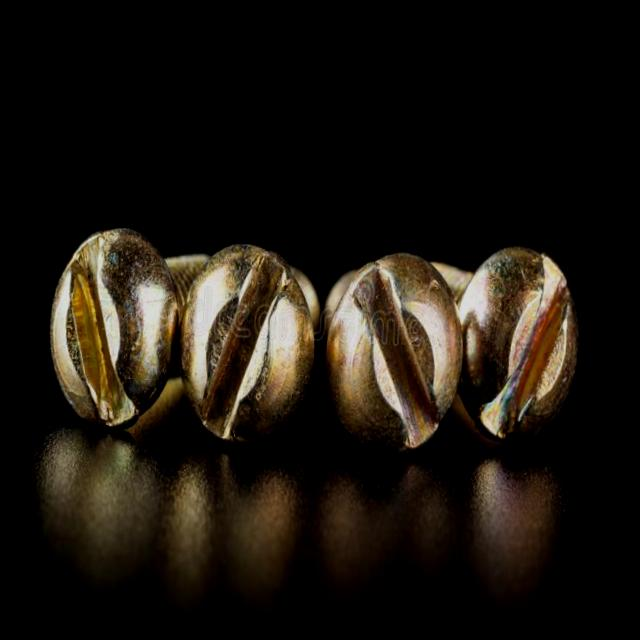Slotted: (175, 223, 324, 454), (39, 198, 183, 436), (320, 235, 468, 462), (456, 246, 588, 460)
